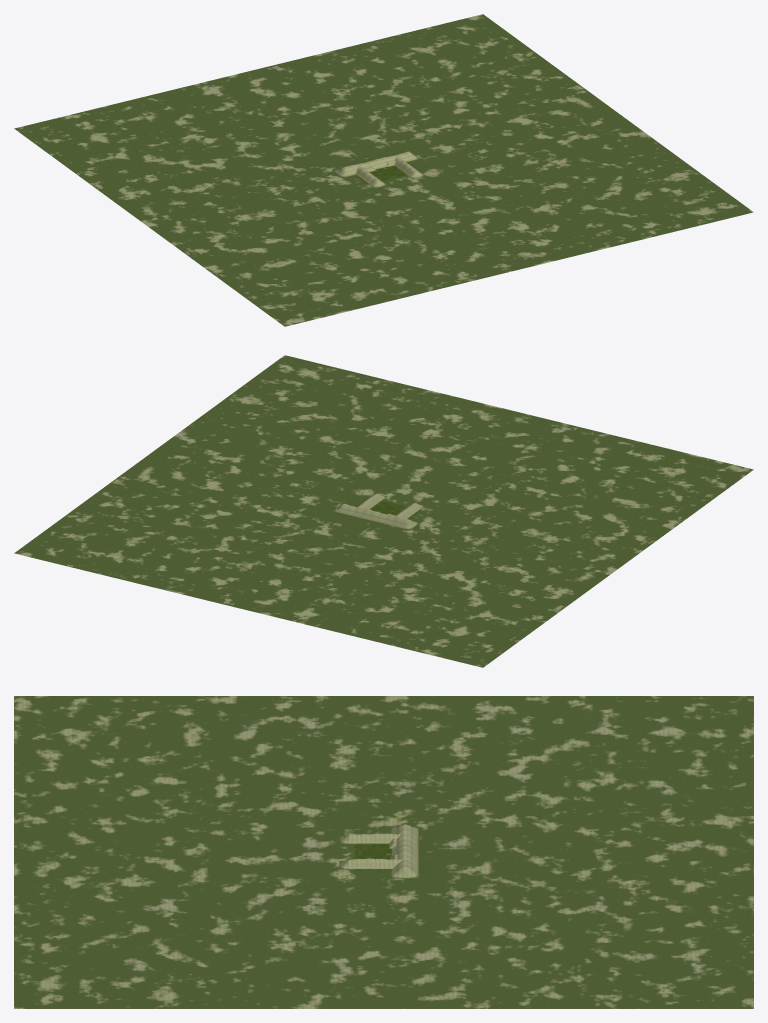
Rendered from env_outdoor_03.glb.
3 views of the same model, one above another, from view 1: azimuth 30°, elevation 25°; view 2: azimuth 150°, elevation 25°; view 3: azimuth 270°, elevation 25° (orthographic). The views are drawn at different scales.
Visible parts, largest first — view 1: ground_mid; view 2: ground_mid, berms_1; view 3: ground_mid, berms_3, berms_1, ground_near_0, ground_near_2.
Boxes of the visible parts, x1,y1,x2,y2 form: ground_mid: [14, 14, 753, 326]; ground_mid: [14, 355, 753, 667]; berms_1: [371, 510, 419, 530]; ground_mid: [14, 696, 753, 1008]; berms_3: [378, 845, 419, 878]; berms_1: [378, 824, 419, 852]; ground_near_0: [336, 825, 378, 852]; ground_near_2: [336, 852, 378, 879].
Size of what is drawn, in the model's own units: 420 by 4.41 by 420.
9 materials, 9 textured.
